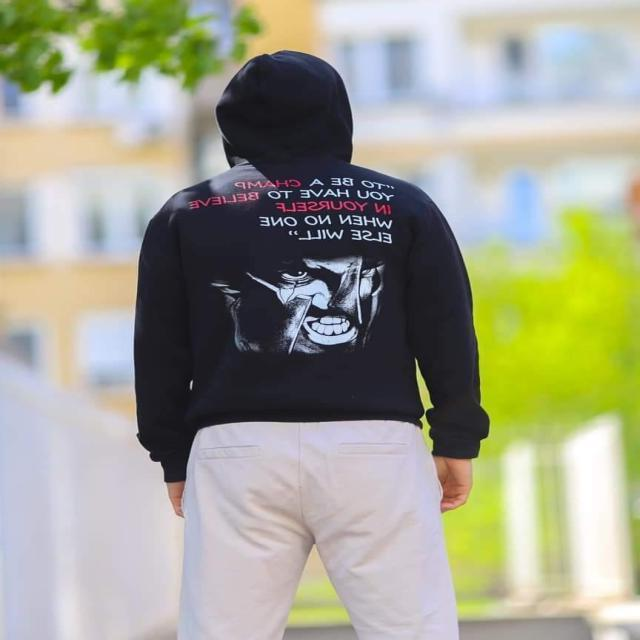sweater: (132, 46, 490, 484)
trousers: (171, 419, 461, 640)
